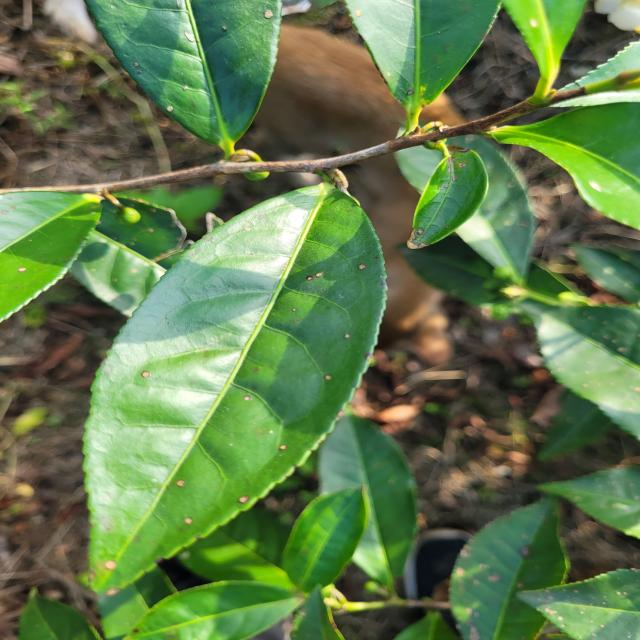Category D(7+ days, Not for Tea): (64, 158, 412, 602)
